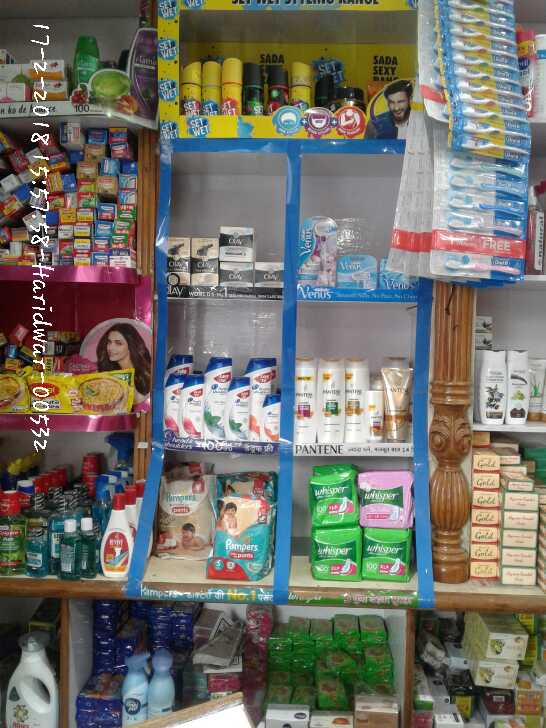venus: (302, 220, 337, 286), (337, 250, 377, 286)
